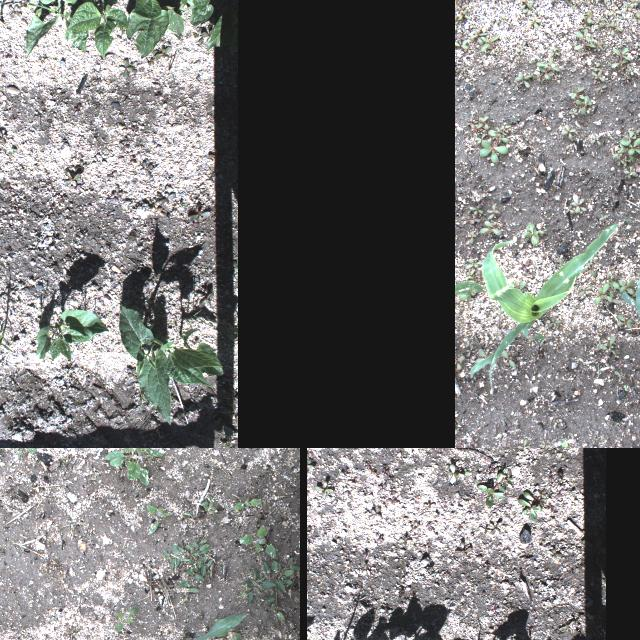crop: (469, 218, 631, 390), (118, 304, 224, 424), (34, 308, 108, 362), (24, 0, 89, 57), (66, 0, 125, 58), (124, 0, 174, 60), (158, 0, 221, 35), (206, 1, 237, 52), (454, 281, 484, 295)
weed: (234, 556, 300, 622), (162, 537, 214, 601), (104, 448, 166, 486), (513, 488, 551, 524), (478, 124, 510, 162), (238, 526, 276, 558), (475, 472, 505, 508), (146, 504, 172, 536), (617, 136, 640, 165), (572, 28, 596, 54), (114, 606, 138, 632), (310, 478, 336, 502), (522, 221, 546, 245), (536, 58, 560, 82), (0, 318, 12, 362), (592, 281, 614, 305), (610, 47, 632, 71), (448, 462, 472, 484), (199, 498, 219, 524), (598, 336, 618, 360), (457, 278, 475, 302), (566, 85, 586, 106), (452, 538, 471, 560), (187, 205, 211, 222), (232, 496, 262, 509), (478, 220, 502, 236), (570, 189, 586, 213), (473, 346, 492, 366), (479, 34, 498, 54), (117, 57, 135, 77), (574, 94, 592, 114), (152, 192, 176, 204), (500, 349, 516, 367), (616, 313, 634, 329), (617, 279, 635, 295), (560, 122, 576, 140), (514, 72, 532, 88), (62, 172, 82, 186), (137, 160, 151, 180), (469, 30, 486, 46), (513, 278, 525, 300), (191, 308, 207, 324), (474, 114, 490, 130), (578, 8, 594, 24), (606, 20, 622, 36), (110, 183, 124, 201), (584, 260, 598, 278), (152, 47, 172, 59), (622, 130, 636, 146), (590, 69, 606, 83), (195, 26, 207, 44), (486, 202, 498, 220), (307, 453, 316, 477), (462, 258, 483, 268), (456, 7, 472, 20), (606, 274, 620, 288), (612, 144, 626, 158), (620, 0, 634, 14), (74, 158, 86, 174), (201, 28, 213, 44), (546, 316, 562, 328), (7, 4, 20, 18), (468, 203, 484, 214), (116, 138, 128, 152), (578, 284, 592, 296), (466, 213, 480, 225), (588, 133, 602, 145), (623, 166, 637, 178), (454, 38, 468, 50), (526, 16, 540, 28), (454, 354, 464, 370), (606, 280, 616, 296), (516, 437, 530, 448), (473, 132, 485, 144), (612, 370, 626, 380), (508, 280, 518, 294), (554, 258, 564, 272), (546, 46, 560, 56), (592, 15, 606, 25), (607, 7, 621, 17), (552, 439, 567, 448), (518, 0, 533, 9), (468, 270, 479, 282), (105, 168, 117, 178), (464, 345, 474, 357), (518, 260, 528, 272), (464, 268, 474, 280), (562, 203, 574, 213), (464, 116, 474, 128), (512, 78, 522, 90), (590, 61, 602, 71), (516, 40, 526, 52), (578, 22, 590, 32), (630, 11, 640, 23), (467, 230, 475, 244), (522, 8, 538, 15), (620, 156, 630, 167), (600, 0, 610, 11), (460, 209, 470, 219), (568, 107, 578, 117), (513, 49, 523, 59), (594, 84, 606, 92), (626, 64, 634, 76), (464, 339, 474, 348), (526, 0, 532, 15), (540, 438, 548, 448), (551, 414, 559, 424), (613, 326, 621, 336), (562, 144, 570, 154), (478, 62, 488, 70), (621, 75, 631, 83), (593, 38, 603, 46), (570, 0, 580, 8), (0, 129, 5, 144), (219, 442, 231, 448), (615, 359, 623, 368), (232, 632, 241, 640), (17, 0, 28, 6), (8, 147, 16, 155), (456, 439, 464, 447), (454, 64, 462, 72), (490, 306, 500, 312), (632, 128, 638, 138), (490, 17, 500, 23), (471, 24, 481, 30), (183, 512, 193, 518), (629, 0, 639, 5), (614, 308, 622, 314), (572, 304, 578, 312), (468, 246, 474, 254), (611, 15, 623, 19), (500, 13, 504, 24), (622, 384, 628, 391), (459, 70, 466, 76), (454, 20, 458, 30), (456, 47, 460, 57), (594, 24, 604, 28), (468, 86, 474, 92), (618, 66, 624, 72), (596, 26, 602, 32), (597, 362, 599, 378), (564, 0, 572, 4), (585, 0, 593, 4), (637, 37, 640, 46), (552, 422, 558, 426), (592, 46, 598, 50), (454, 430, 458, 434)
